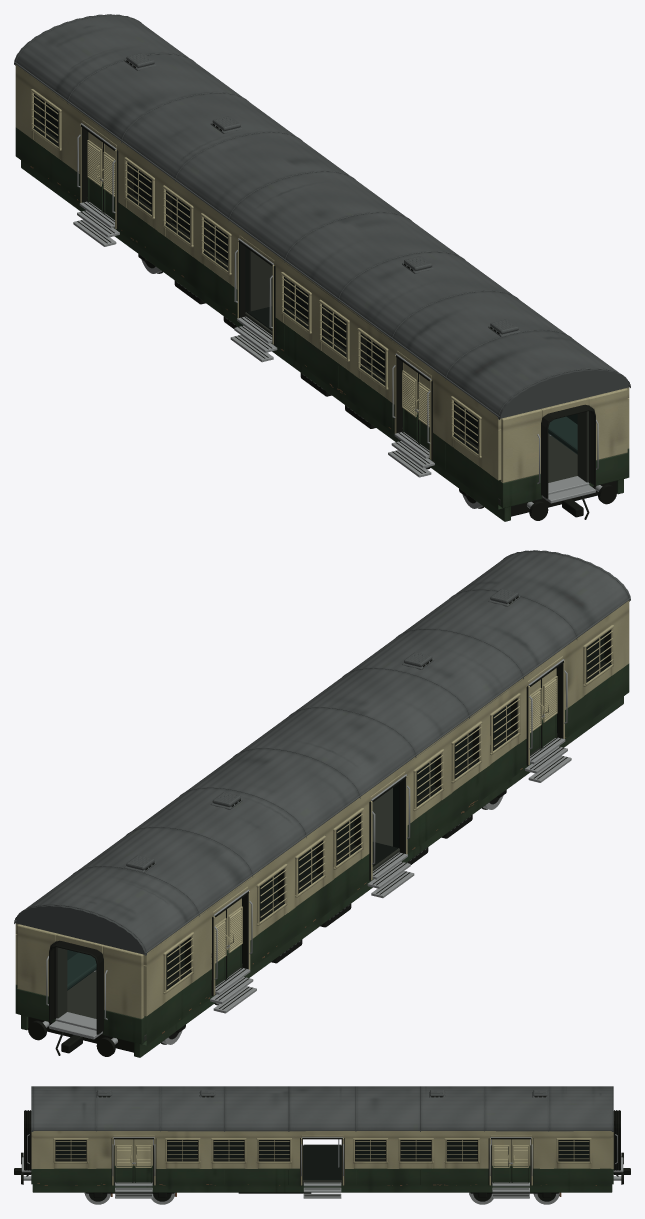
The model's file is chennai-emu-coach.glb.
3 renders of one model, top to bottom at view 1: azimuth 30°, elevation 25°; view 2: azimuth 150°, elevation 25°; view 3: azimuth 270°, elevation 25°, orthographic. The views are drawn at different scales.
Parts seen in each view (by area): view 1: Chennai EMU coach / Oxidized grey roof with rain streaks, Chennai EMU coach / Weathered cream enamel, Chennai EMU coach / Faded Southern Railway dark green, Chennai EMU coach / Oily bogies and rubber, Chennai EMU coach / Worn steel hardware, Chennai EMU coach / Dusty dull window glass, Chennai EMU coach / Muted interior pale paint, Chennai EMU coach / Dark window and doorway interior, Chennai EMU coach / Dim blue green bench upholstery; view 2: Chennai EMU coach / Oxidized grey roof with rain streaks, Chennai EMU coach / Weathered cream enamel, Chennai EMU coach / Faded Southern Railway dark green, Chennai EMU coach / Oily bogies and rubber, Chennai EMU coach / Worn steel hardware, Chennai EMU coach / Dusty dull window glass, Chennai EMU coach / Muted interior pale paint, Chennai EMU coach / Dark window and doorway interior, Chennai EMU coach / Dim blue green bench upholstery; view 3: Chennai EMU coach / Oxidized grey roof with rain streaks, Chennai EMU coach / Weathered cream enamel, Chennai EMU coach / Faded Southern Railway dark green, Chennai EMU coach / Oily bogies and rubber, Chennai EMU coach / Dusty dull window glass, Chennai EMU coach / Worn steel hardware, Chennai EMU coach / Dark window and doorway interior, Chennai EMU coach / Muted interior pale paint.
Boxes of the visible parts, box(x1,y1,x2,y2) form: Chennai EMU coach / Oxidized grey roof with rain streaks: box(14, 14, 630, 421); Chennai EMU coach / Weathered cream enamel: box(15, 64, 629, 482); Chennai EMU coach / Faded Southern Railway dark green: box(15, 127, 629, 521); Chennai EMU coach / Oily bogies and rubber: box(34, 60, 616, 520); Chennai EMU coach / Worn steel hardware: box(73, 123, 602, 508); Chennai EMU coach / Dusty dull window glass: box(40, 99, 478, 446); Chennai EMU coach / Muted interior pale paint: box(87, 197, 588, 504); Chennai EMU coach / Dark window and doorway interior: box(33, 128, 478, 454); Chennai EMU coach / Dim blue green bench upholstery: box(548, 414, 577, 454); Chennai EMU coach / Oxidized grey roof with rain streaks: box(14, 550, 630, 955); Chennai EMU coach / Weathered cream enamel: box(15, 600, 629, 1018); Chennai EMU coach / Faded Southern Railway dark green: box(15, 663, 629, 1057); Chennai EMU coach / Oily bogies and rubber: box(28, 596, 610, 1056); Chennai EMU coach / Worn steel hardware: box(42, 659, 571, 1044); Chennai EMU coach / Dusty dull window glass: box(166, 635, 604, 982); Chennai EMU coach / Muted interior pale paint: box(56, 733, 557, 1040); Chennai EMU coach / Dark window and doorway interior: box(166, 664, 611, 990); Chennai EMU coach / Dim blue green bench upholstery: box(67, 950, 96, 990); Chennai EMU coach / Oxidized grey roof with rain streaks: box(31, 1086, 613, 1131); Chennai EMU coach / Weathered cream enamel: box(31, 1131, 613, 1185); Chennai EMU coach / Faded Southern Railway dark green: box(31, 1166, 613, 1192); Chennai EMU coach / Oily bogies and rubber: box(14, 1096, 630, 1201); Chennai EMU coach / Dusty dull window glass: box(56, 1140, 588, 1158); Chennai EMU coach / Worn steel hardware: box(21, 1134, 623, 1204); Chennai EMU coach / Dark window and doorway interior: box(55, 1145, 589, 1180); Chennai EMU coach / Muted interior pale paint: box(114, 1139, 530, 1183).
Size of the model in its own units: 3.78 by 4.03 by 22.08.
10 materials, 3 textured.
